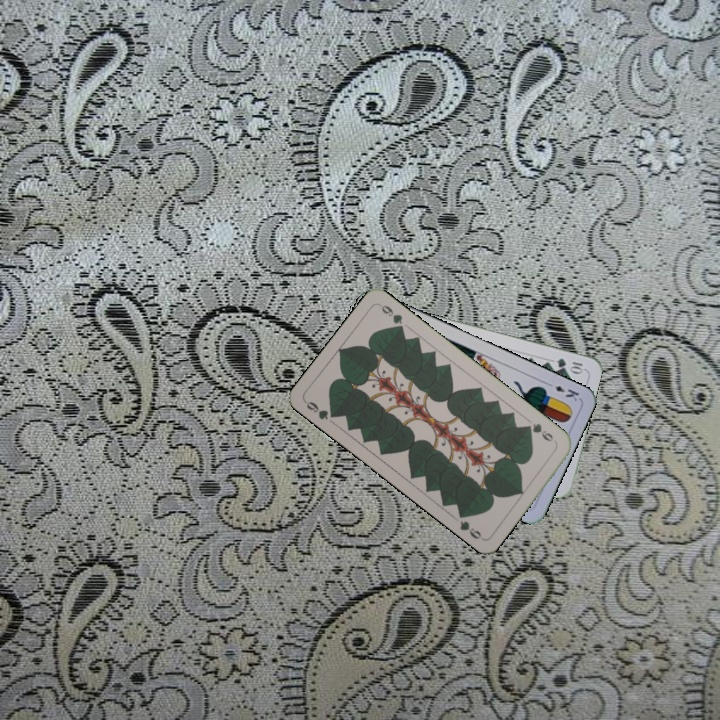EK: (542, 378, 582, 404)
G10: (552, 354, 585, 375)
G9: (522, 419, 559, 446), (301, 397, 340, 422)
